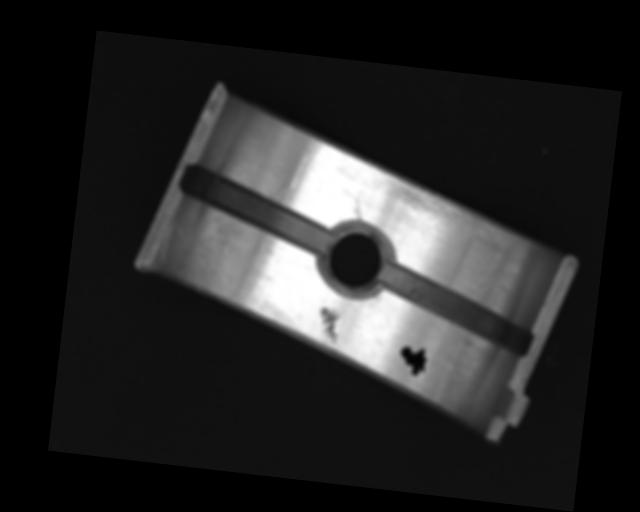blot: (397, 345, 429, 377)
bruise: (316, 305, 342, 343)
gap: (375, 261, 538, 355), (177, 166, 335, 251)
hole: (318, 220, 394, 299)
nick: (289, 136, 323, 191), (352, 196, 365, 222)
scratch: (382, 175, 523, 243)
